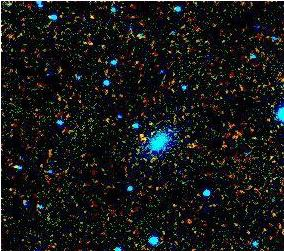star: (129, 122, 159, 152)
